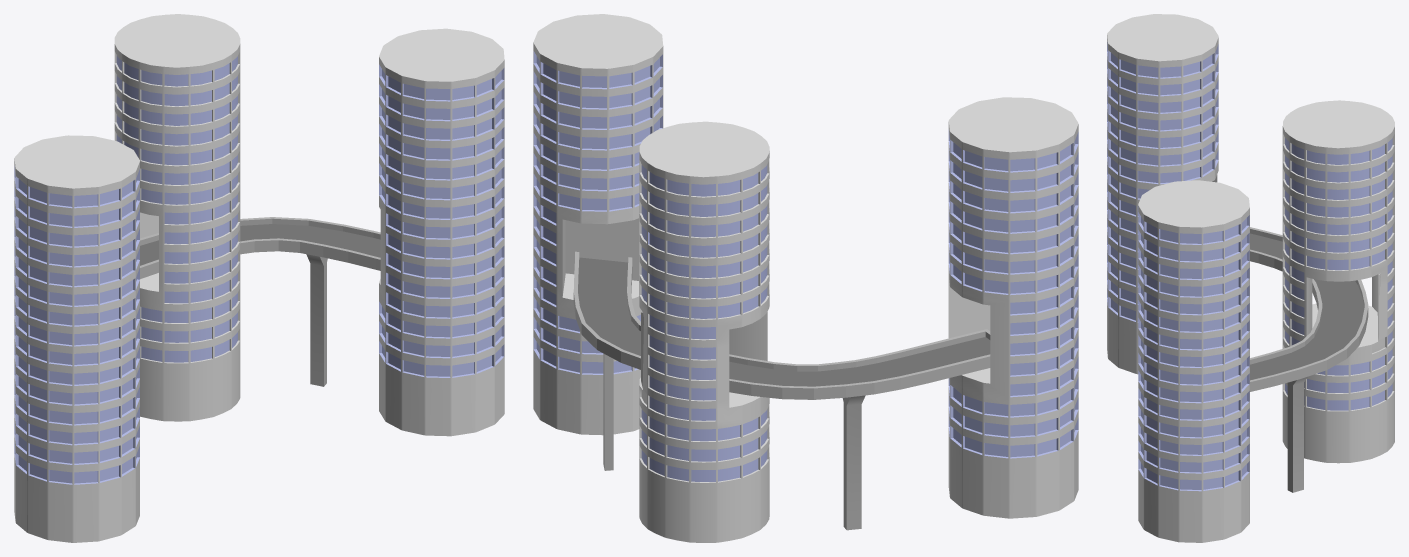
Rendered from tesuto01.fbx.
3 renders of one model, left to right at view 1: azimuth 30°, elevation 25°; view 2: azimuth 150°, elevation 25°; view 3: azimuth 270°, elevation 25°, orthographic. The views are drawn at different scales.
Visible parts, largest first — view 1: polySurface3, polySurface5, polySurface4, pCube7, pCube12; view 2: polySurface3, polySurface4, polySurface5, pCube7, pCube11, pCube12; view 3: polySurface5, polySurface4, polySurface3, pCube7, pCube12.
Boxes of the visible parts, <box> form: polySurface3: <box>14,135,139,542</box>; polySurface5: <box>379,28,504,436</box>; polySurface4: <box>114,14,240,421</box>; pCube7: <box>140,217,380,279</box>; pCube12: <box>306,254,327,386</box>; polySurface3: <box>948,97,1078,518</box>; polySurface4: <box>639,121,769,542</box>; polySurface5: <box>533,14,663,435</box>; pCube7: <box>573,251,990,399</box>; pCube11: <box>842,395,865,530</box>; pCube12: <box>603,353,613,470</box>; polySurface5: <box>1138,180,1249,542</box>; polySurface4: <box>1282,100,1394,463</box>; polySurface3: <box>1107,14,1218,374</box>; pCube7: <box>1250,227,1368,391</box>; pCube12: <box>1287,376,1307,492</box>.
Size of the model in its own units: 56.08 by 39.23 by 31.96.
